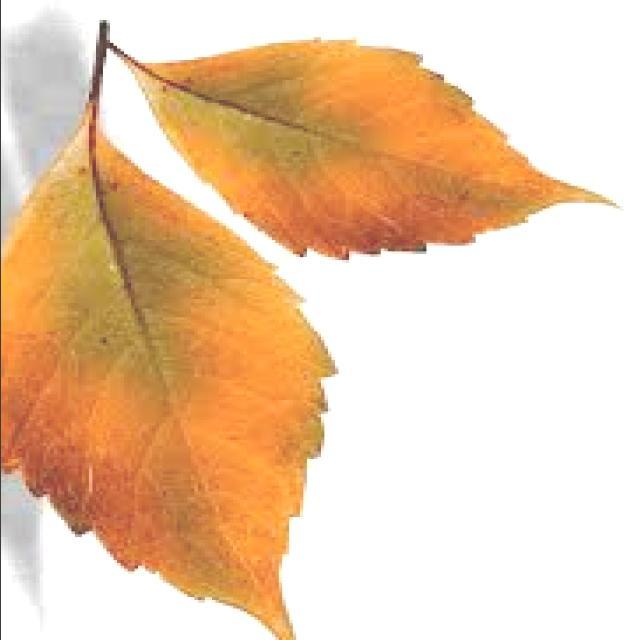leaf: (105, 26, 620, 260)
